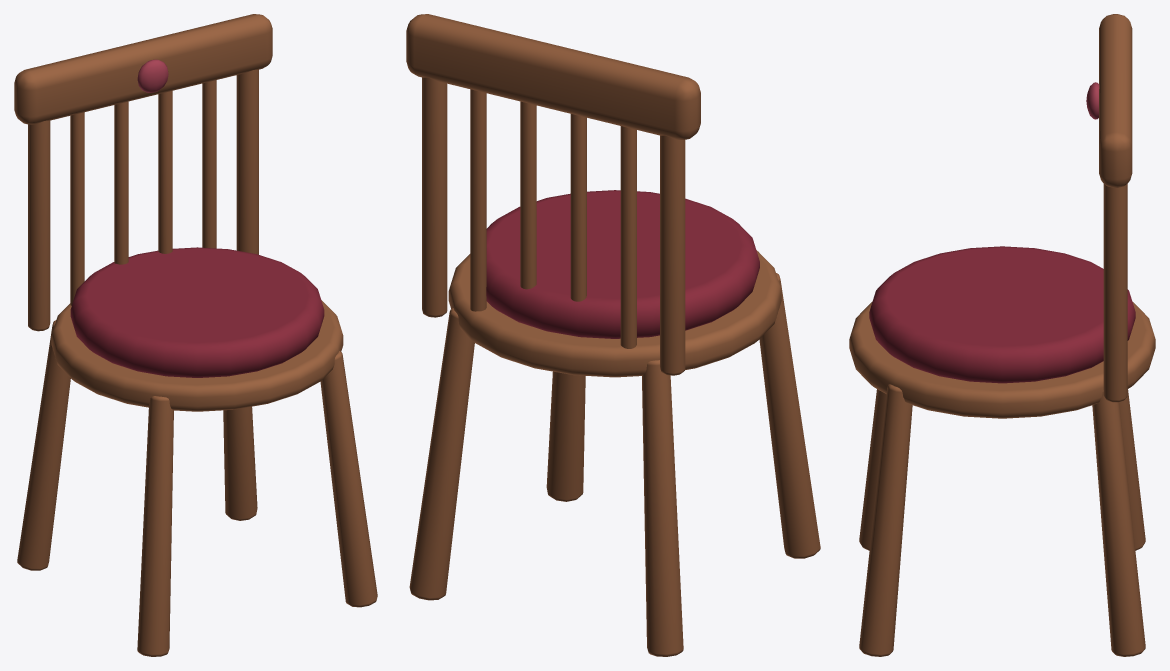
Rendered from desk-chair.glb.
The picture shows the model from 3 angles, left to right: view 1: azimuth 30°, elevation 25°; view 2: azimuth 150°, elevation 25°; view 3: azimuth 270°, elevation 25°; orthographic projection. The views are drawn at different scales.
Parts seen in each view (by area): view 1: desk-chair; view 2: desk-chair; view 3: desk-chair.
Boxes of the visible parts, bbox=[...] form: desk-chair: bbox=[14, 14, 377, 656]; desk-chair: bbox=[406, 14, 820, 656]; desk-chair: bbox=[849, 14, 1155, 656].
Size of the model in its own units: 0.46 by 0.8724 by 0.46.
